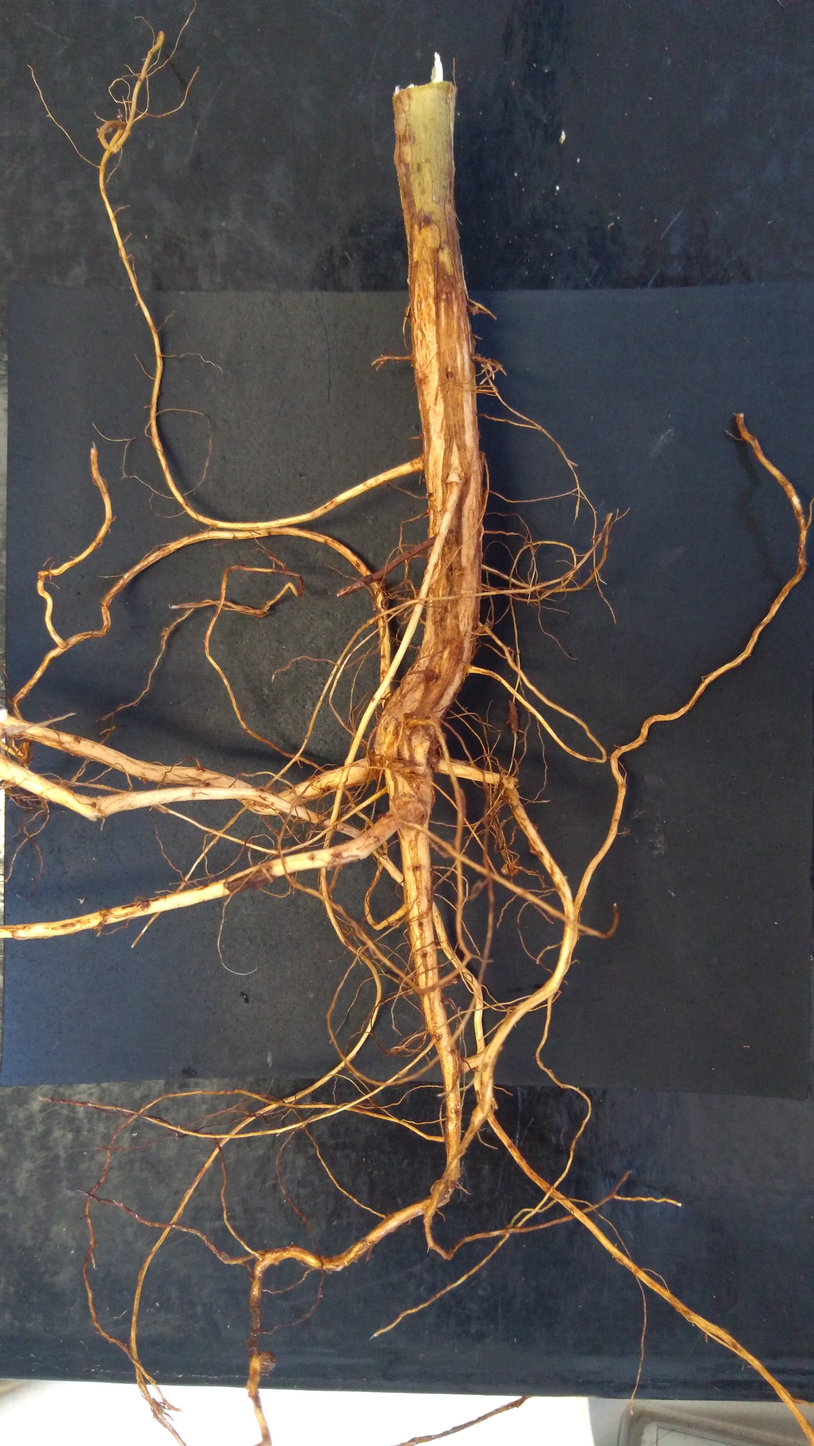nodule: (396, 726, 433, 775), (390, 789, 426, 828), (430, 1177, 451, 1207), (257, 1350, 277, 1373), (507, 698, 519, 734), (500, 859, 521, 876), (500, 774, 518, 790), (506, 788, 519, 807), (471, 305, 480, 317)
